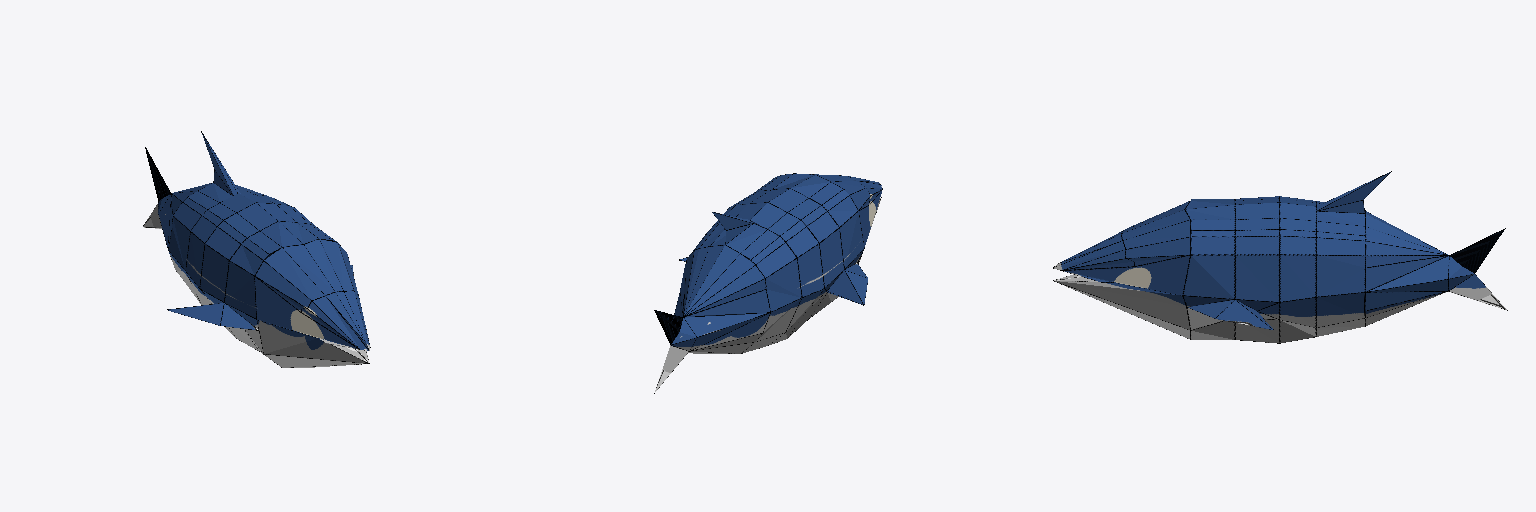
3 renders of one model, left to right at view 1: azimuth 30°, elevation 25°; view 2: azimuth 150°, elevation 25°; view 3: azimuth 270°, elevation 25°, orthographic.
Visible parts, largest first — view 1: Cube; view 2: Cube; view 3: Cube.
Boxes of the visible parts, <box> form: Cube: <box>143,131,370,367</box>; Cube: <box>654,173,882,393</box>; Cube: <box>1053,171,1507,343</box>.
Size of the model in its own units: 1.03 by 0.8937 by 2.16.
1 materials, 1 textured.